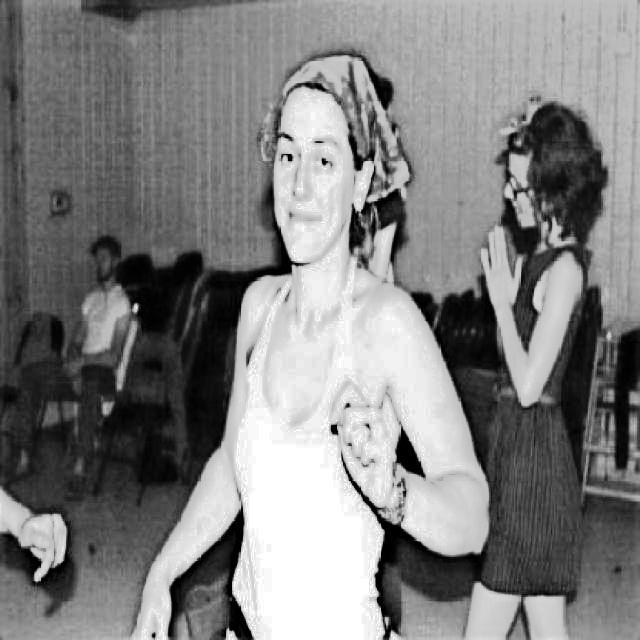Person: (135, 52, 491, 640), (465, 98, 608, 640), (0, 230, 135, 489)
